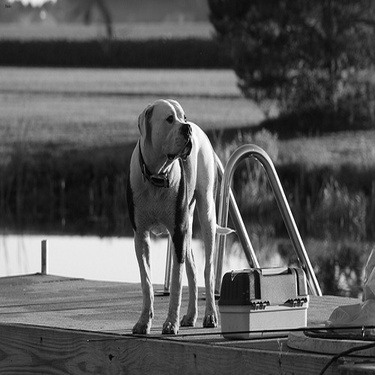dog: (116, 95, 243, 338)
